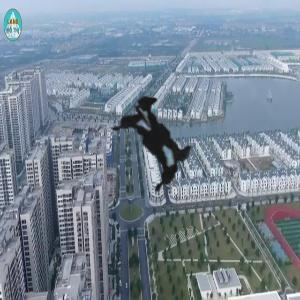drone: (24, 7, 286, 269)
